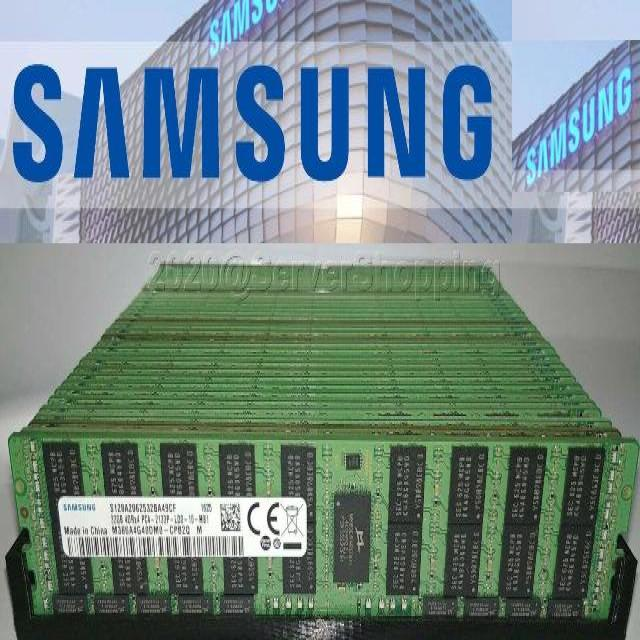RAM: (8, 431, 640, 620)
